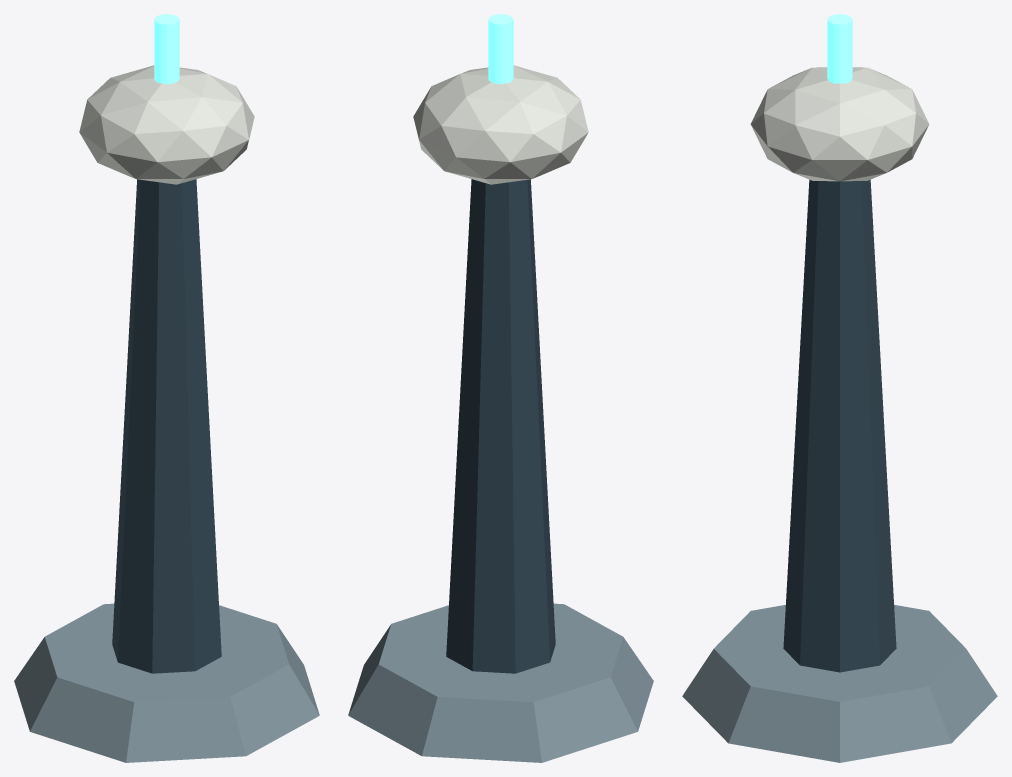
Rendered from beacon.glb.
3 renders of one model, left to right at view 1: azimuth 30°, elevation 25°; view 2: azimuth 150°, elevation 25°; view 3: azimuth 270°, elevation 25°, orthographic.
Parts seen in each view (by area): view 1: Beacon; view 2: Beacon; view 3: Beacon.
Part boxes in pixels (x1,y1,x2,y2): Beacon: [14, 14, 319, 762]; Beacon: [348, 14, 653, 762]; Beacon: [682, 14, 997, 762].
Size of the model in its own units: 6 by 14.2 by 6.
